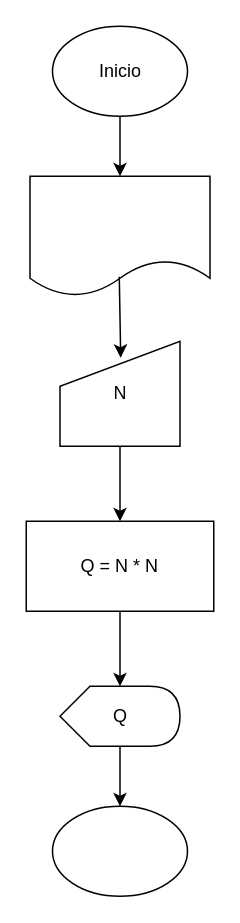
This 240x923 diagram has some shape labels left out. Here are the shapes that lost their labels. From the top down, the centre of each, then its label:
(x=119, y=235): "informe um número inteiro"
(x=119, y=850): Fim
